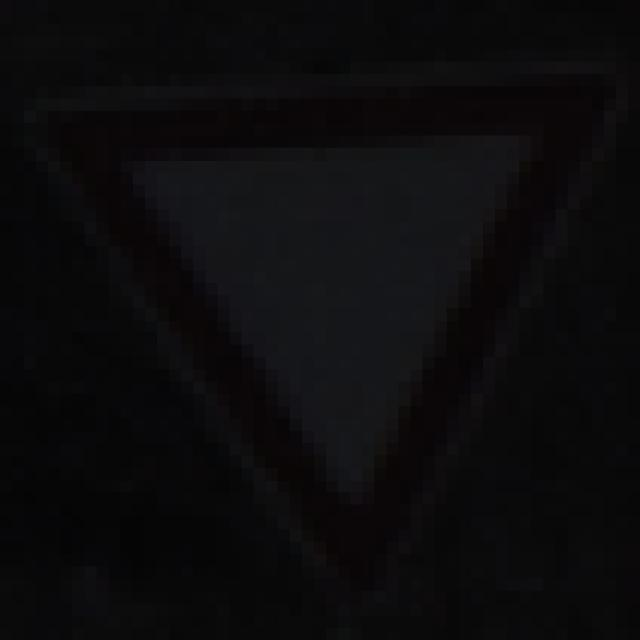Give Way: (74, 75, 581, 579)
